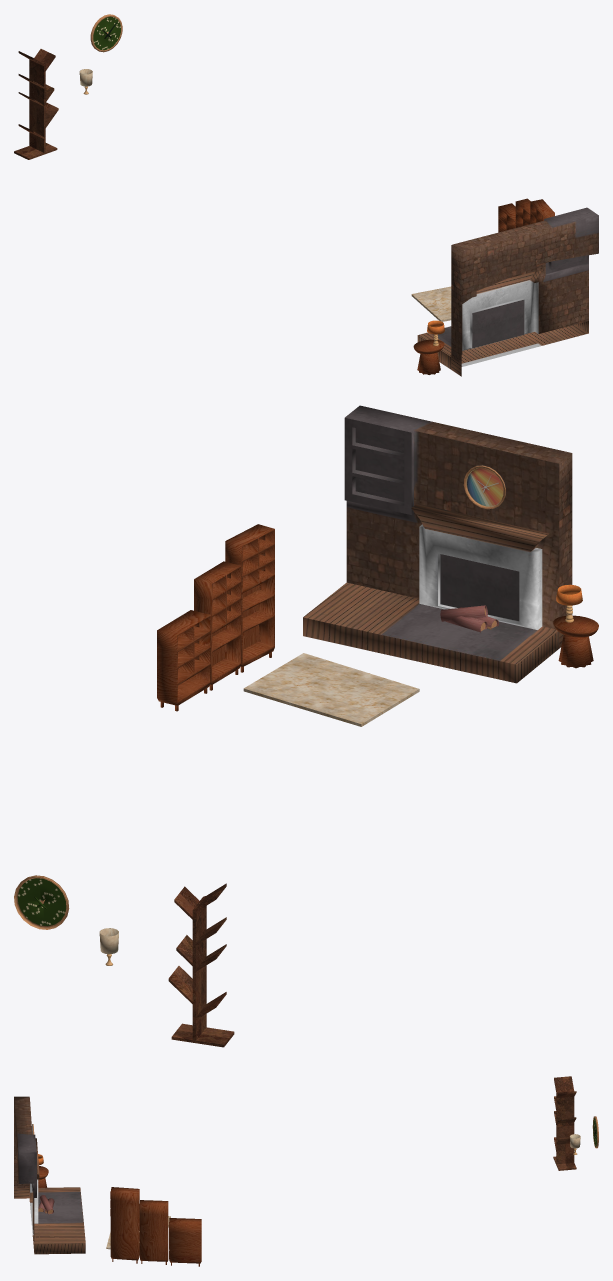
The model's file is mesh_70_room_2.glb.
3 renders of one model, top to bottom at view 1: azimuth 30°, elevation 25°; view 2: azimuth 150°, elevation 25°; view 3: azimuth 270°, elevation 25°, orthographic. The views are drawn at different scales.
Visible parts, largest first — view 1: mesh_70_room_2; view 2: mesh_70_room_2; view 3: mesh_70_room_2.
Part boxes in pixels (bbox=[...]): mesh_70_room_2: bbox=[14, 14, 598, 376]; mesh_70_room_2: bbox=[14, 405, 598, 1047]; mesh_70_room_2: bbox=[14, 1076, 598, 1266].
Size of the model in its own units: 5.67 by 2.56 by 12.96.
Materials: 1 (1 with a texture image).
